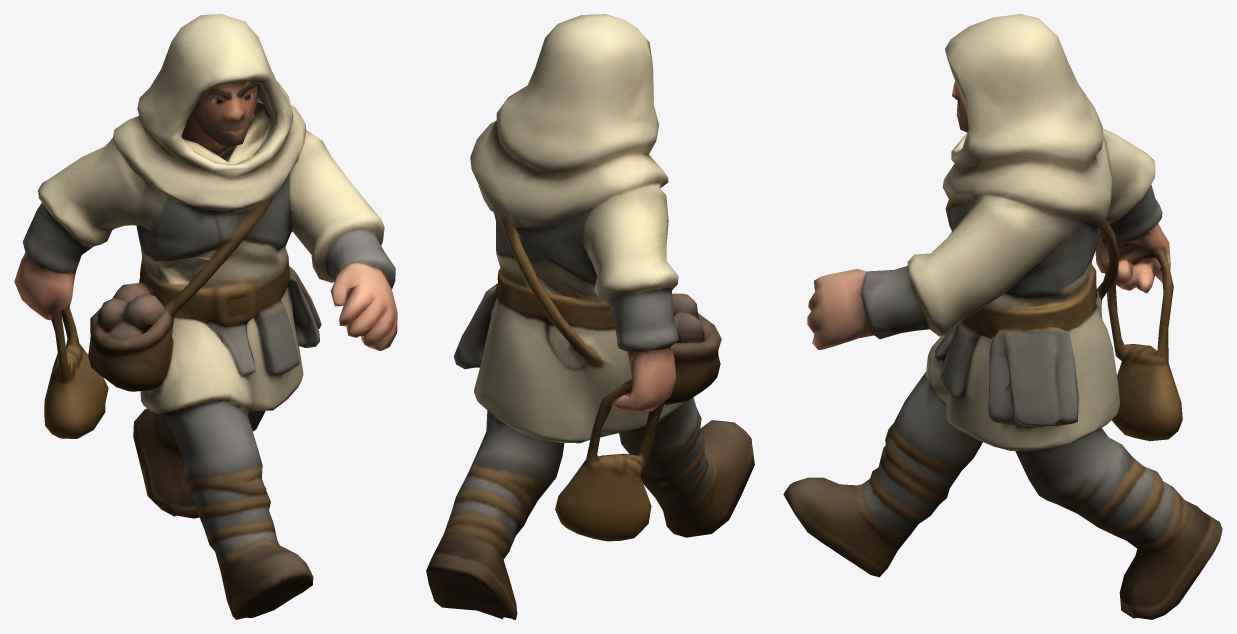
File: hill_slingers_march.glb
3 renders of one model, left to right at view 1: azimuth 30°, elevation 25°; view 2: azimuth 150°, elevation 25°; view 3: azimuth 270°, elevation 25°, orthographic. The views are drawn at different scales.
Visible parts, largest first — view 1: world; view 2: world; view 3: world.
Boxes of the visible parts, x1,y1,x2,y2 form: world: (14,14,397,619); world: (426,14,754,619); world: (783,14,1222,619).
Bounding box in the file's own units: 0.5076 × 1 × 0.6996.
1 material, 1 textured.
